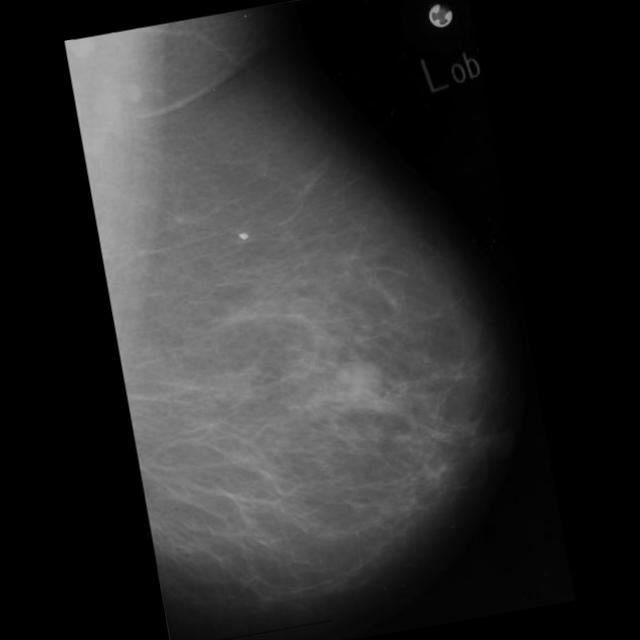CIRC: (330, 348, 394, 412)
